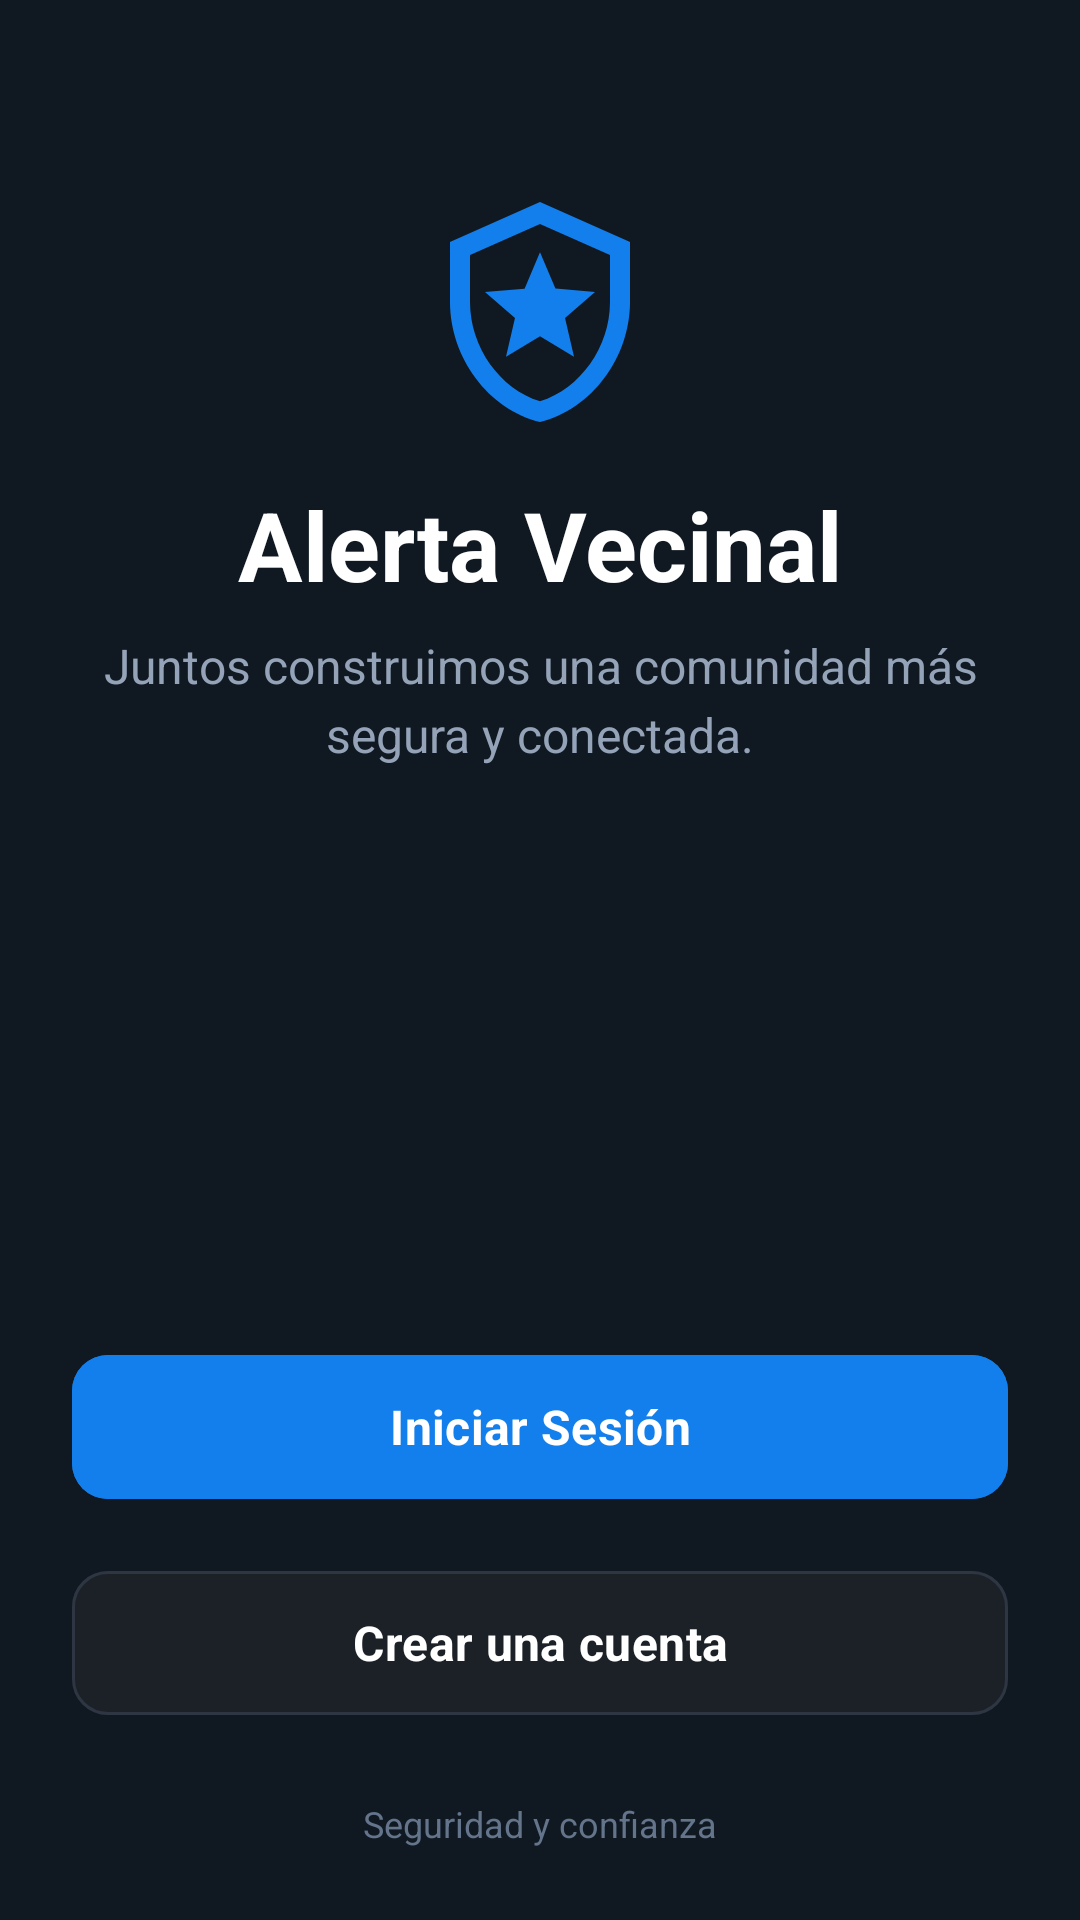

Locate icon controls on the screen. Image size 1080 × 1920, boxes as [x1, y1, x2, y2].
local police: [450, 202, 630, 422]
